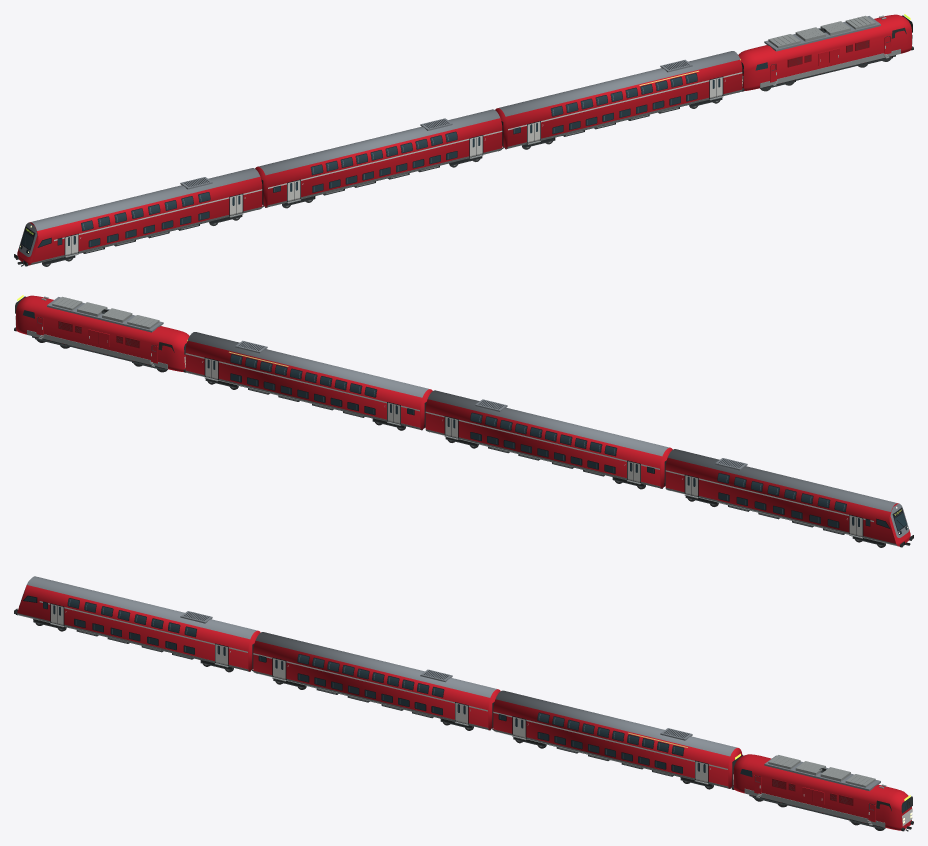
File: db-regional-express-r3.glb
The picture shows the model from 3 angles, top to bottom: view 1: azimuth 30°, elevation 25°; view 2: azimuth 150°, elevation 25°; view 3: azimuth 330°, elevation 25°; orthographic projection.
Visible parts, largest first — view 1: r3_continuous_rounded_shell.004, r3_continuous_rounded_shell.003, r3_continuous_rounded_shell.005, br245_lofted_body.001, br245_lower_grey_band_-1.001; view 2: r3_continuous_rounded_shell.004, r3_continuous_rounded_shell.003, r3_continuous_rounded_shell.005, br245_lofted_body.001, br245_lower_grey_band_1.001; view 3: r3_continuous_rounded_shell.003, r3_continuous_rounded_shell.004, r3_continuous_rounded_shell.005, br245_lofted_body.001, br245_lower_grey_band_-1.001.
Part boxes in pixels (x1,y1,x2,y2): r3_continuous_rounded_shell.004: (255,109,502,207); r3_continuous_rounded_shell.003: (495,51,742,148); r3_continuous_rounded_shell.005: (29,168,262,265); br245_lofted_body.001: (738,14,911,90); br245_lower_grey_band_-1.001: (760,49,900,87); r3_continuous_rounded_shell.004: (425,390,672,488); r3_continuous_rounded_shell.003: (185,332,432,429); r3_continuous_rounded_shell.005: (665,449,898,546); br245_lofted_body.001: (16,295,189,371); br245_lower_grey_band_1.001: (27,330,167,368); r3_continuous_rounded_shell.003: (493,690,742,788); r3_continuous_rounded_shell.004: (253,632,500,730); r3_continuous_rounded_shell.005: (17,576,260,671); br245_lofted_body.001: (733,754,911,830); br245_lower_grey_band_-1.001: (744,788,885,827).
Size of the model in its own units: 100 by 4.77 by 3.41.
